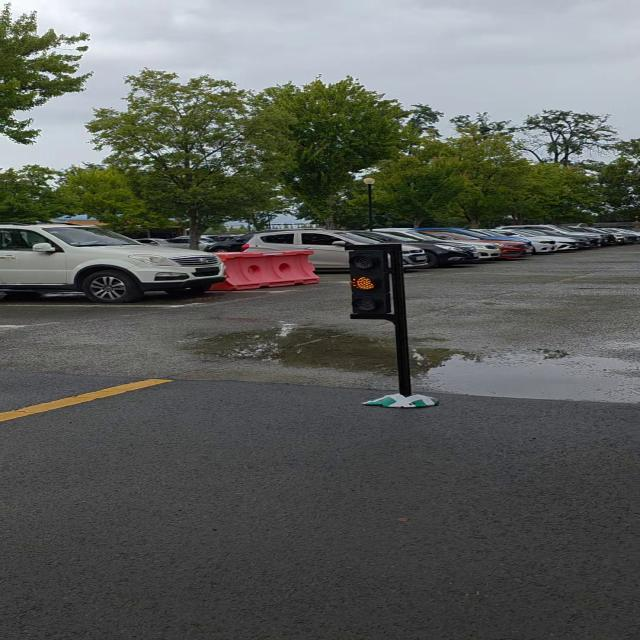yellow: (341, 248, 403, 322)
